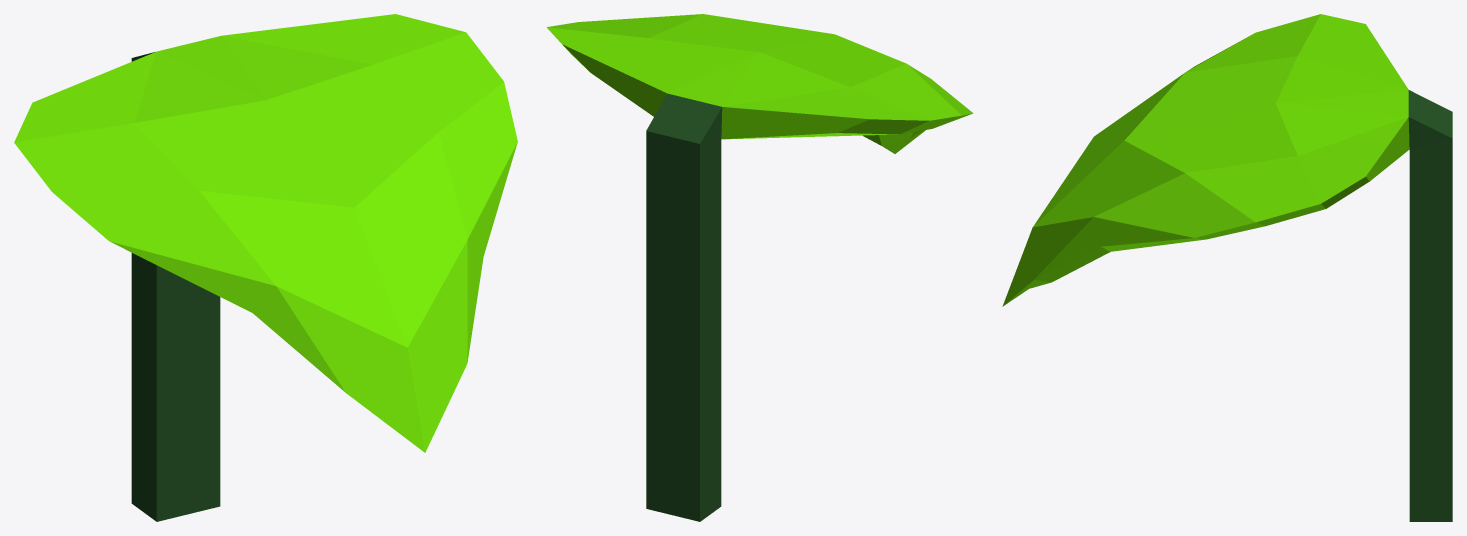
Rendered from leaf_lowpoly.fbx.
The picture shows the model from 3 angles, left to right: view 1: azimuth 30°, elevation 25°; view 2: azimuth 150°, elevation 25°; view 3: azimuth 270°, elevation 25°; orthographic projection. The views are drawn at different scales.
Visible parts, largest first — view 1: Leaf; view 2: Leaf; view 3: Leaf.
Part boxes in pixels (box(x1,y1,x2,y2)): Leaf: box(14, 14, 517, 521); Leaf: box(546, 14, 973, 521); Leaf: box(1002, 14, 1452, 521).
Bounding box in the file's own units: 100 × 100 × 100.
